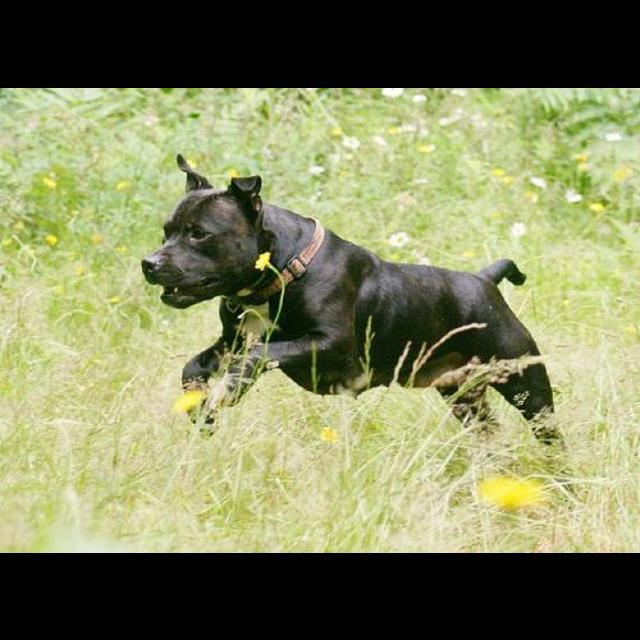staffford: (141, 153, 568, 464)
